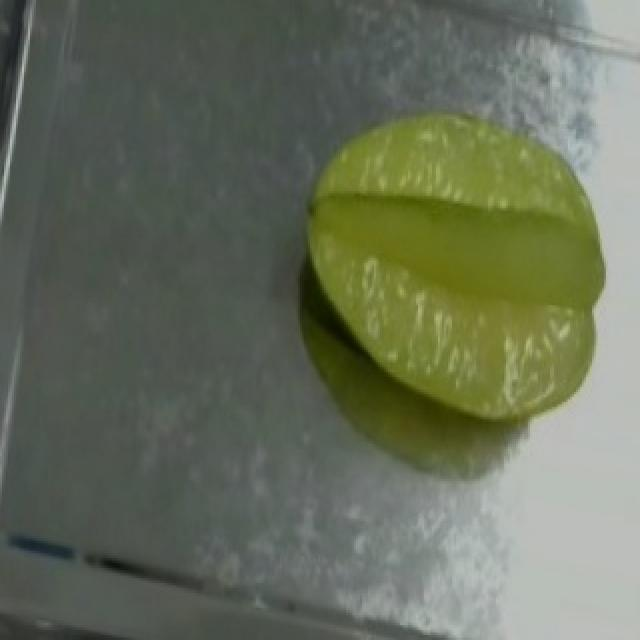fruit: (286, 77, 640, 451)
